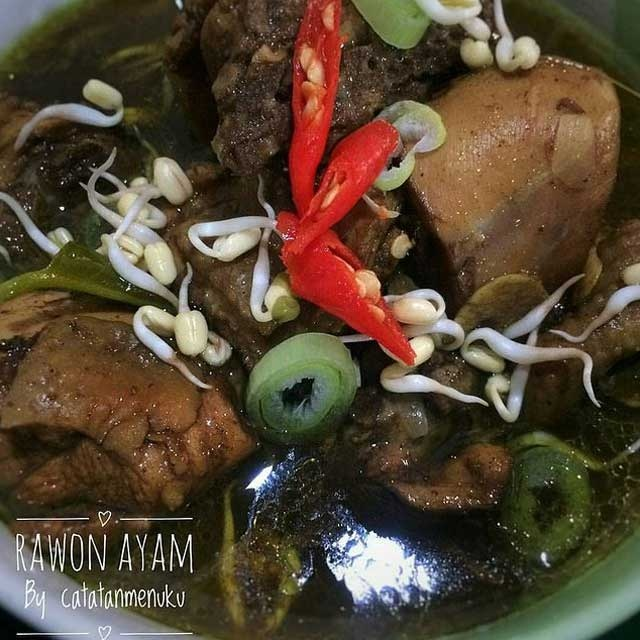rawon: (23, 11, 630, 617)
